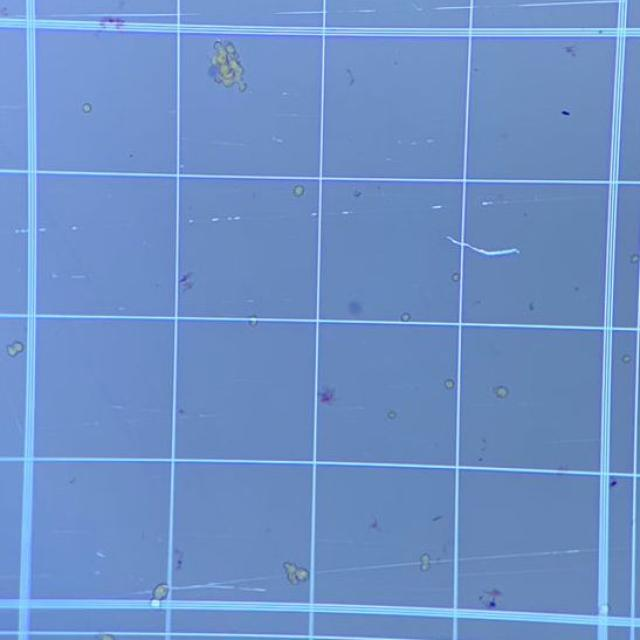Cell: (153, 582, 170, 600), (493, 385, 509, 399), (296, 568, 310, 584), (348, 301, 363, 315), (95, 630, 116, 640), (148, 598, 163, 611), (282, 561, 298, 573), (599, 604, 612, 616), (288, 573, 299, 587), (293, 185, 305, 197), (419, 553, 433, 563), (444, 378, 455, 390), (13, 342, 24, 353), (248, 314, 258, 326), (7, 345, 17, 357), (400, 312, 411, 322), (621, 354, 632, 364), (421, 563, 432, 573), (387, 410, 397, 420), (82, 103, 92, 113), (451, 272, 460, 283), (633, 253, 640, 263), (528, 302, 535, 311), (574, 286, 580, 292)
